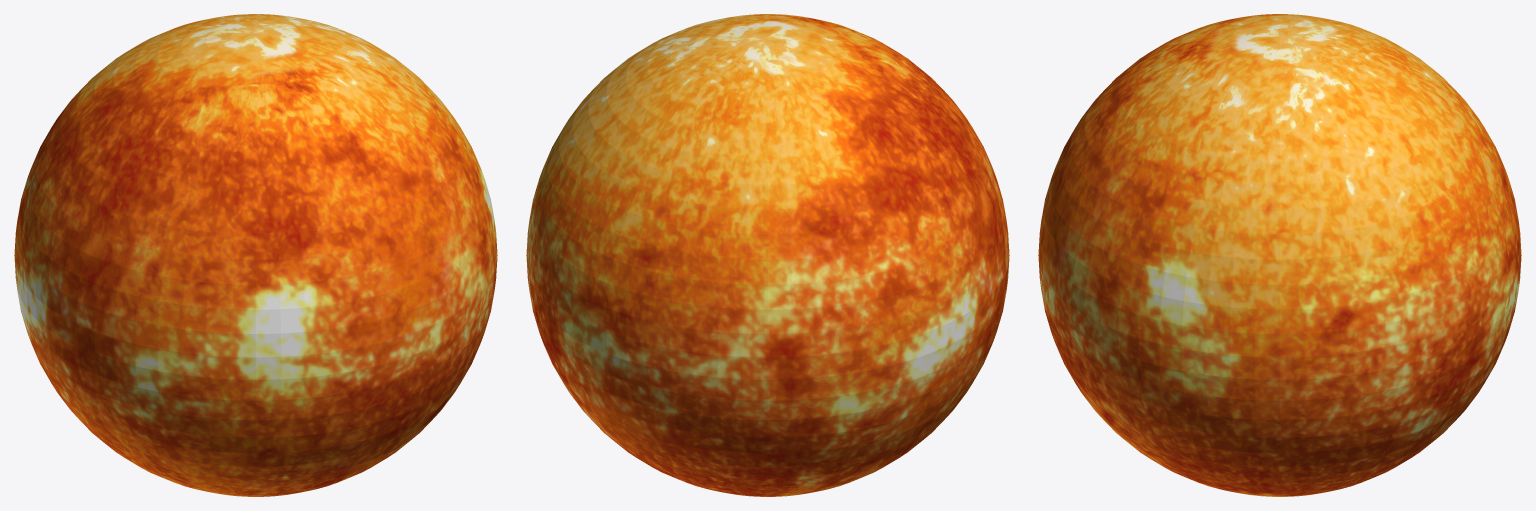
Rendered from sun.glb.
The picture shows the model from 3 angles, left to right: view 1: azimuth 30°, elevation 25°; view 2: azimuth 150°, elevation 25°; view 3: azimuth 270°, elevation 25°; orthographic projection.
Parts seen in each view (by area): view 1: sol; view 2: sol; view 3: sol.
Boxes of the visible parts, left/top/right/bottom form: sol: left=14, top=14, right=497, bottom=496; sol: left=526, top=14, right=1009, bottom=496; sol: left=1038, top=14, right=1521, bottom=496.
Bounding box in the file's own units: 40000 × 40000 × 40000.
1 material, 1 textured.
